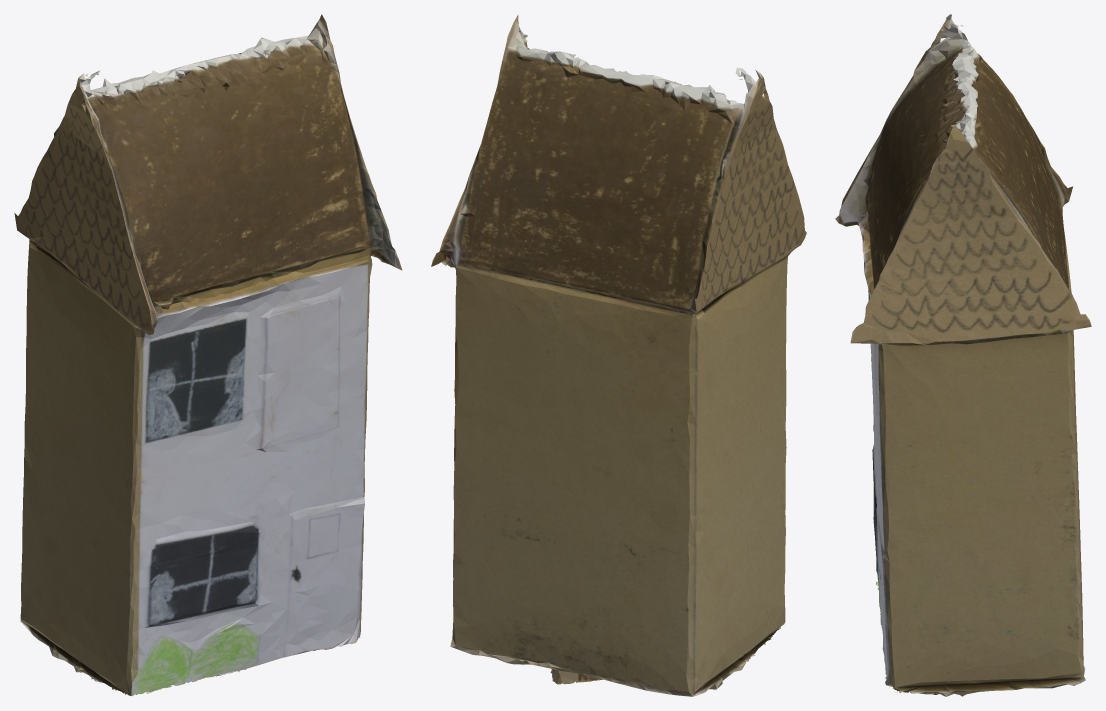
3 views of the same model, side by side, from view 1: azimuth 30°, elevation 25°; view 2: azimuth 150°, elevation 25°; view 3: azimuth 270°, elevation 25° (orthographic). The views are drawn at different scales.
Visible parts, largest first — view 1: Object_0; view 2: Object_0; view 3: Object_0.
Part boxes in pixels (box(x1,y1,x2,y2)): Object_0: box(14, 14, 402, 696); Object_0: box(431, 14, 806, 696); Object_0: box(835, 14, 1091, 696).
Bounding box in the file's own units: 12.44 × 27.38 × 10.89.
1 material, 1 textured.
